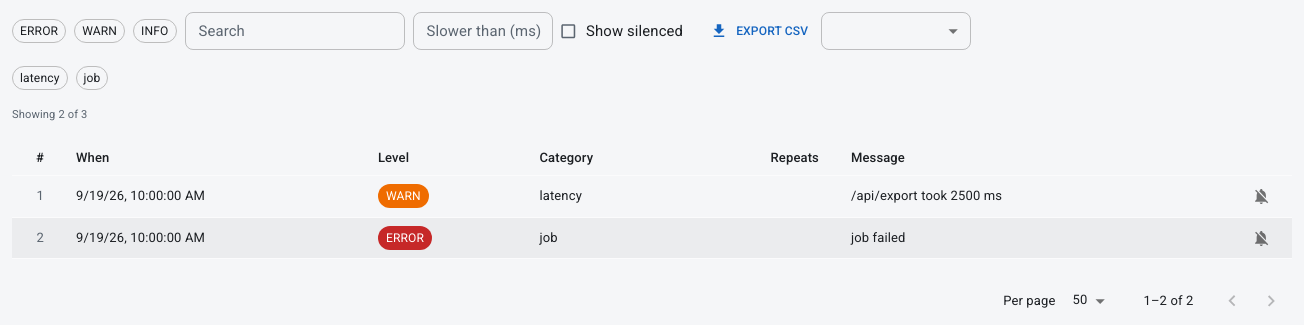
Scenario: AlertsPanel › filters by text
Type "export" into the field labelled "Search". click: (294,31)
box: [184,12,404,50]
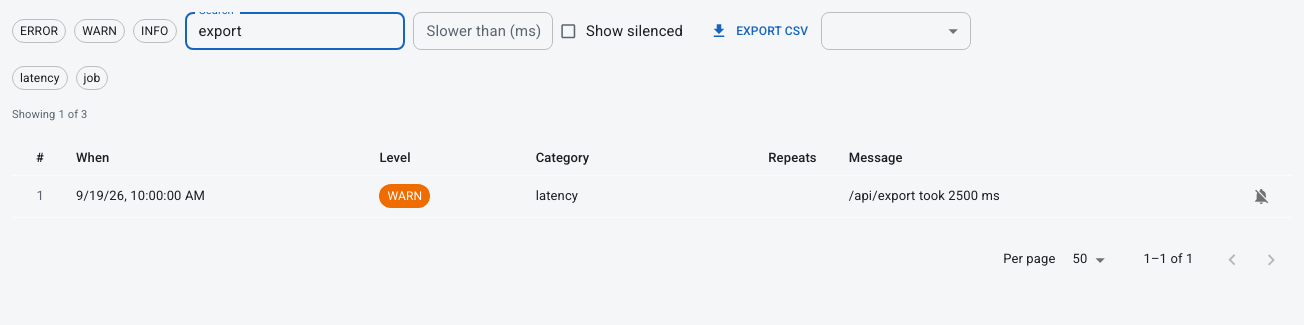
Check: the text "/api/export took 2500 ms" is shown, box [849,188,1000,203]
Check: the text "job failed" is gone
